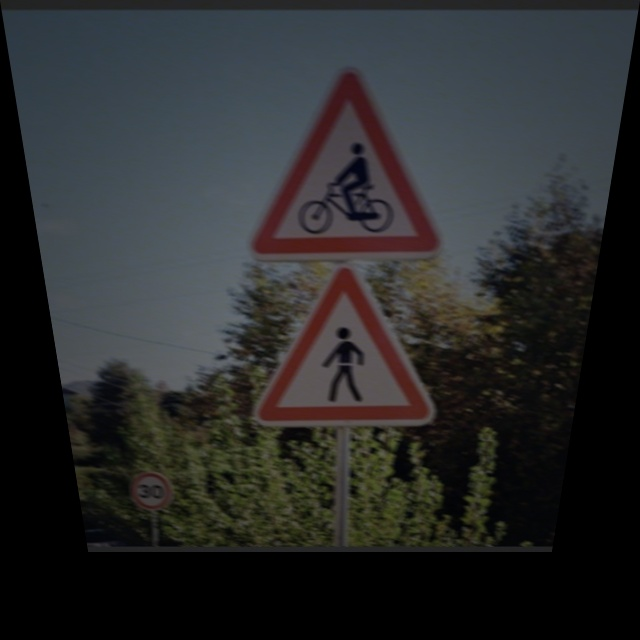Cycle_Crossing: (247, 62, 458, 258)
